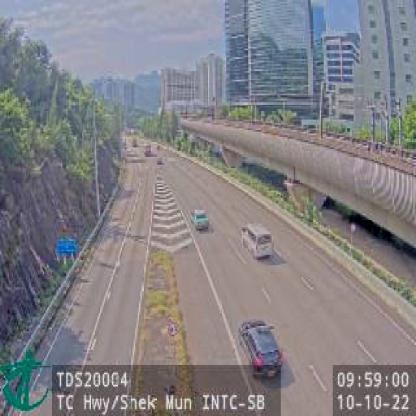Car: (238, 317, 284, 378), (242, 222, 275, 259), (192, 208, 210, 229)
